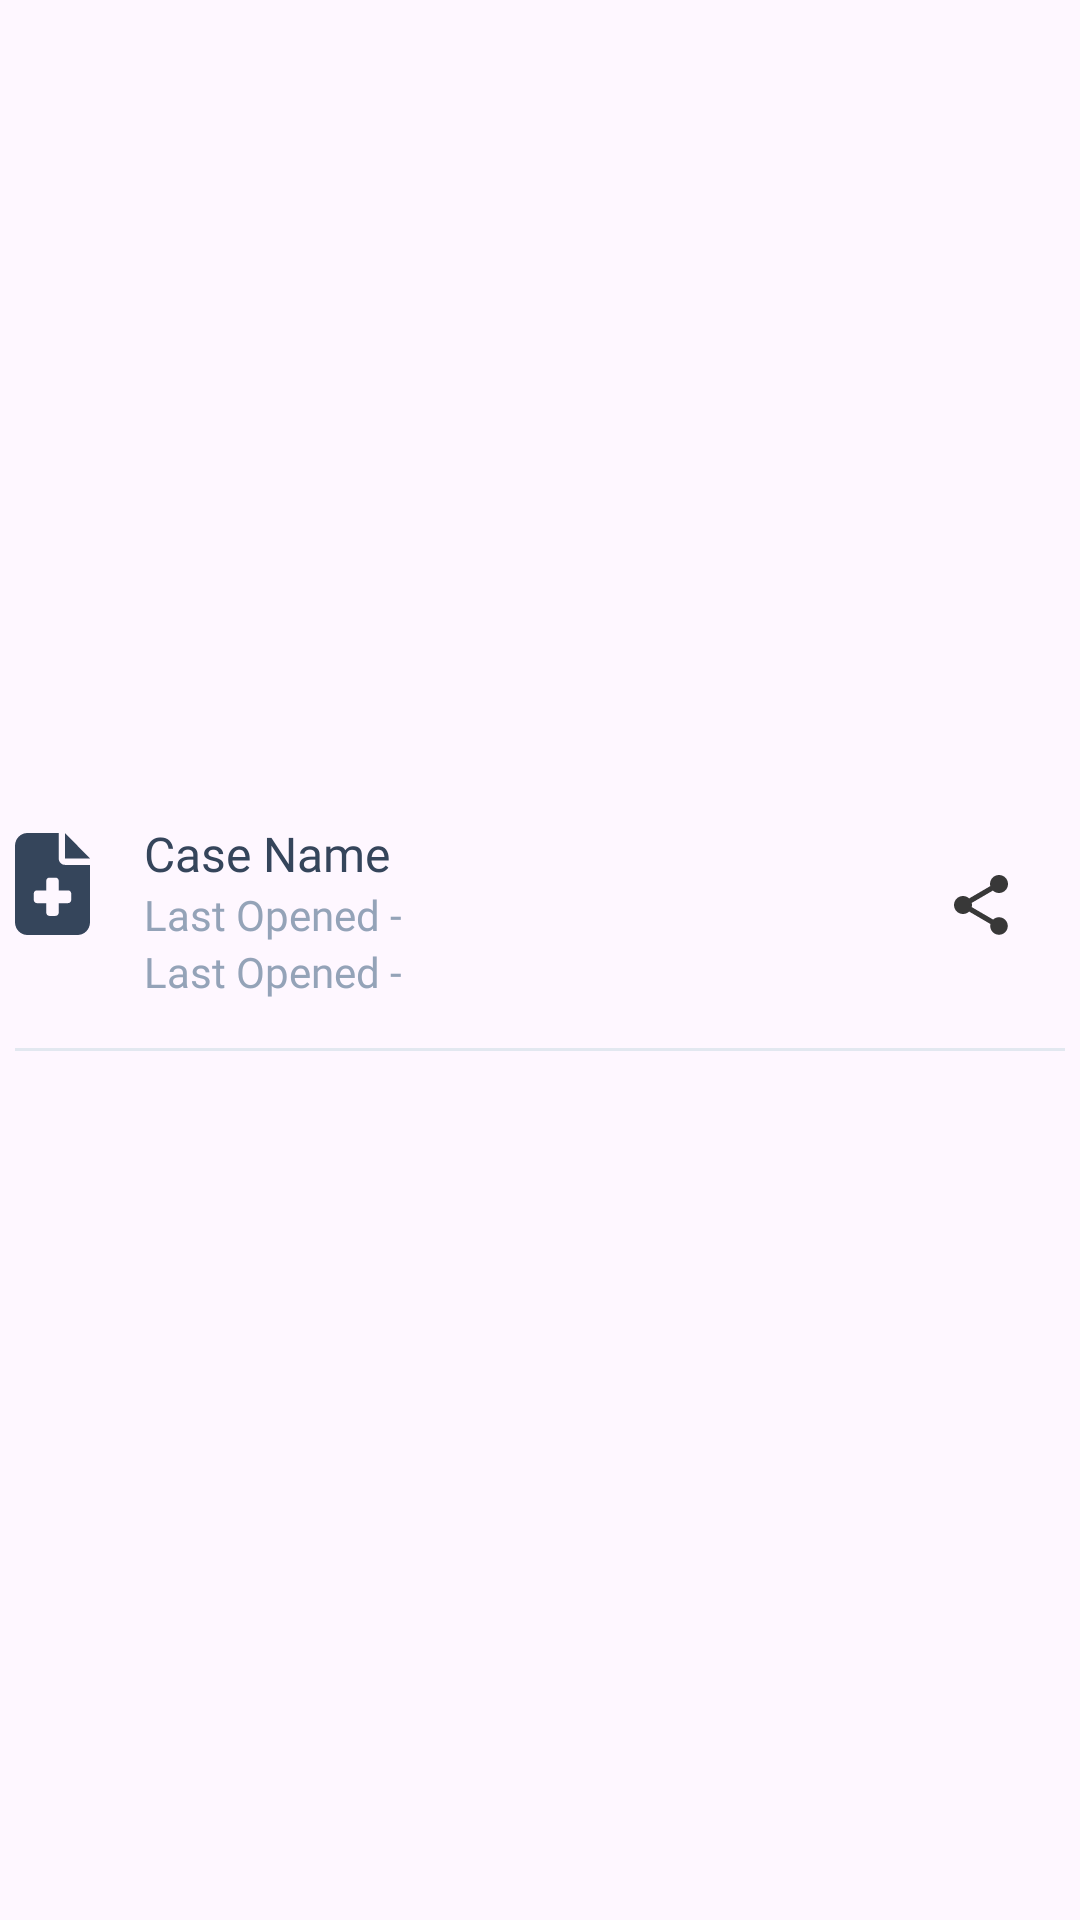

Icons on this 1080 x 1920 Android screen, each with its box as {"x1": x1, "y1": y1, "x2": x2, "y2": y2}:
share: {"x1": 954, "y1": 875, "x2": 1008, "y2": 935}
